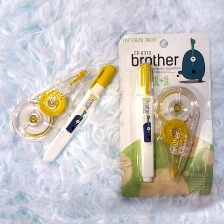book: (114, 29, 216, 199)
correction_fluid: (40, 61, 119, 166), (9, 64, 97, 145), (151, 84, 204, 186), (131, 60, 160, 186)
